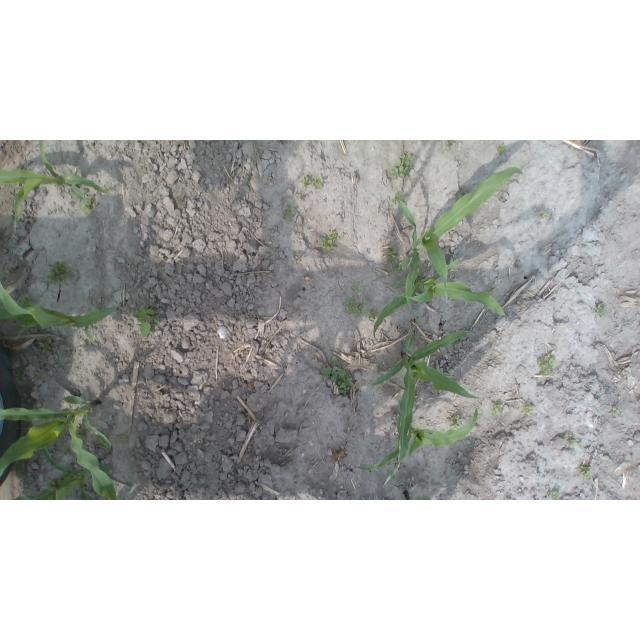Maize: (396, 166, 524, 314), (372, 327, 483, 490), (0, 395, 120, 499), (370, 257, 506, 344), (1, 140, 111, 234), (357, 407, 480, 473), (0, 279, 118, 344)
Weeds: (320, 356, 354, 395), (345, 284, 377, 323), (131, 307, 157, 341), (42, 260, 74, 284), (390, 152, 414, 178), (16, 467, 36, 487), (389, 246, 403, 273), (538, 354, 556, 375), (320, 232, 338, 253), (303, 176, 324, 188), (84, 196, 96, 210), (490, 404, 502, 418), (285, 206, 296, 220), (567, 435, 580, 446), (449, 416, 462, 426), (584, 466, 593, 479), (539, 209, 550, 219), (551, 491, 562, 500), (524, 404, 533, 415), (498, 145, 507, 154), (596, 306, 605, 315), (612, 408, 620, 417), (448, 142, 455, 147)
